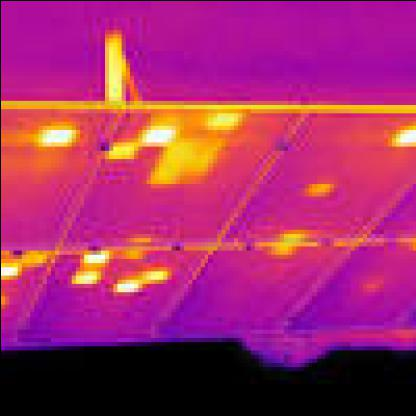Defects: (37, 121, 75, 150), (208, 108, 242, 133), (70, 266, 108, 287), (150, 166, 184, 188), (387, 125, 415, 151), (142, 120, 170, 146), (108, 138, 137, 162), (83, 246, 117, 266), (174, 134, 212, 150), (21, 246, 50, 266), (154, 150, 188, 166), (4, 254, 21, 283), (270, 242, 300, 258), (362, 274, 383, 296), (112, 279, 138, 295), (187, 150, 212, 166), (141, 266, 162, 283), (304, 183, 328, 196), (283, 229, 304, 241)
